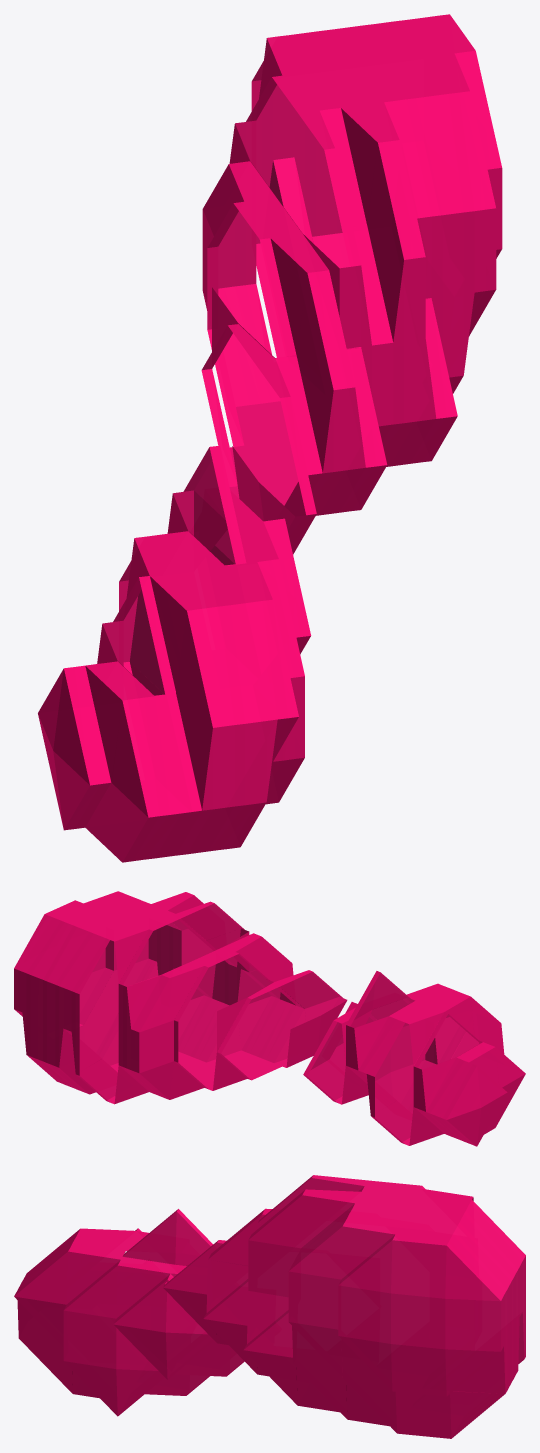
The model's file is SVV_Fragment3.gltf.
The picture shows the model from 3 angles, top to bottom: view 1: azimuth 30°, elevation 25°; view 2: azimuth 150°, elevation 25°; view 3: azimuth 270°, elevation 25°; orthographic projection. The views are drawn at different scales.
Parts seen in each view (by area): view 1: Fragment3; view 2: Fragment3; view 3: Fragment3.
Part boxes in pixels (<box>): Fragment3: <box>38,14,502,862</box>; Fragment3: <box>14,891,525,1146</box>; Fragment3: <box>14,1175,525,1438</box>.
Bounding box in the file's own units: 5593 × 3950 × 6048.
